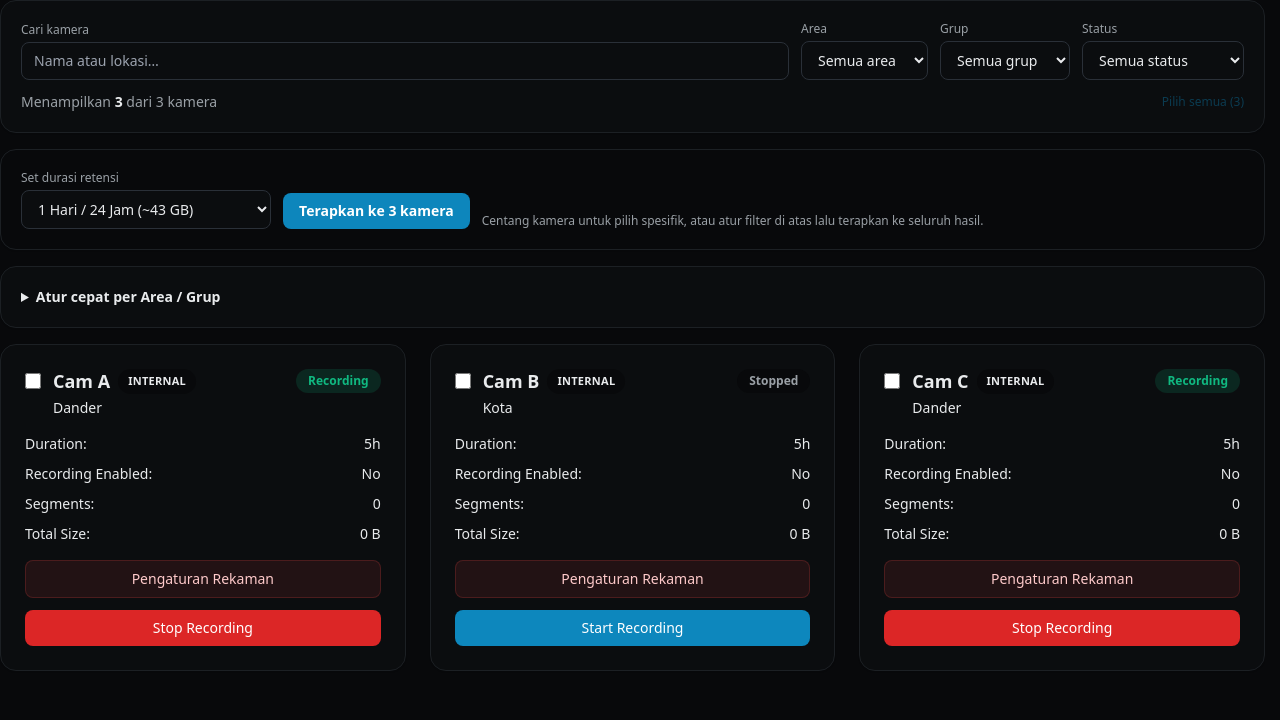
Scenario: RecordingRetentionManager › memfilter grid berdasarkan area
This screenshot has width=1280, height=720.
Expected: the heading "Cam A" is shown, top-left (53, 370), bottom-right (110, 392)
Expected: the heading "Cam B" is shown, top-left (483, 370), bottom-right (540, 392)
Select "Dander" in the dropdown labelled "Area" at (864, 60), box top-left (801, 41), bottom-right (928, 80)
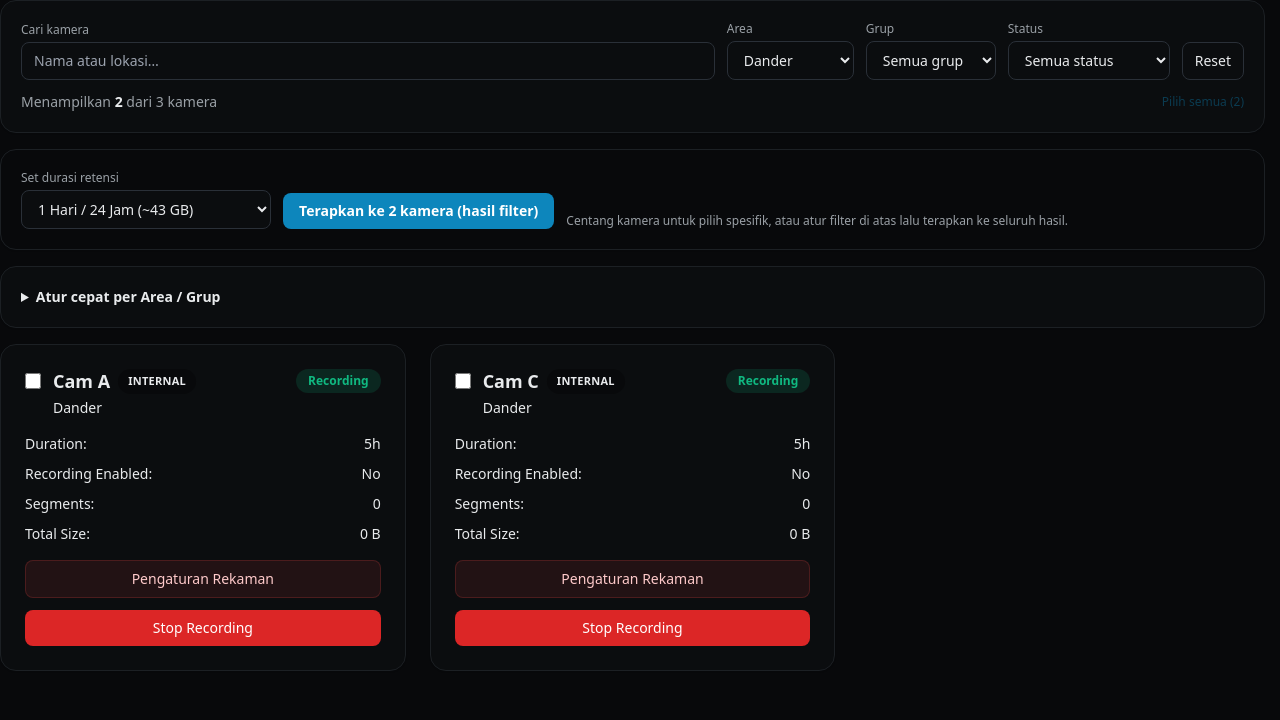
Expected: the heading "Cam A" is shown, top-left (53, 370), bottom-right (110, 392)
Result: the heading "Cam B" is gone
